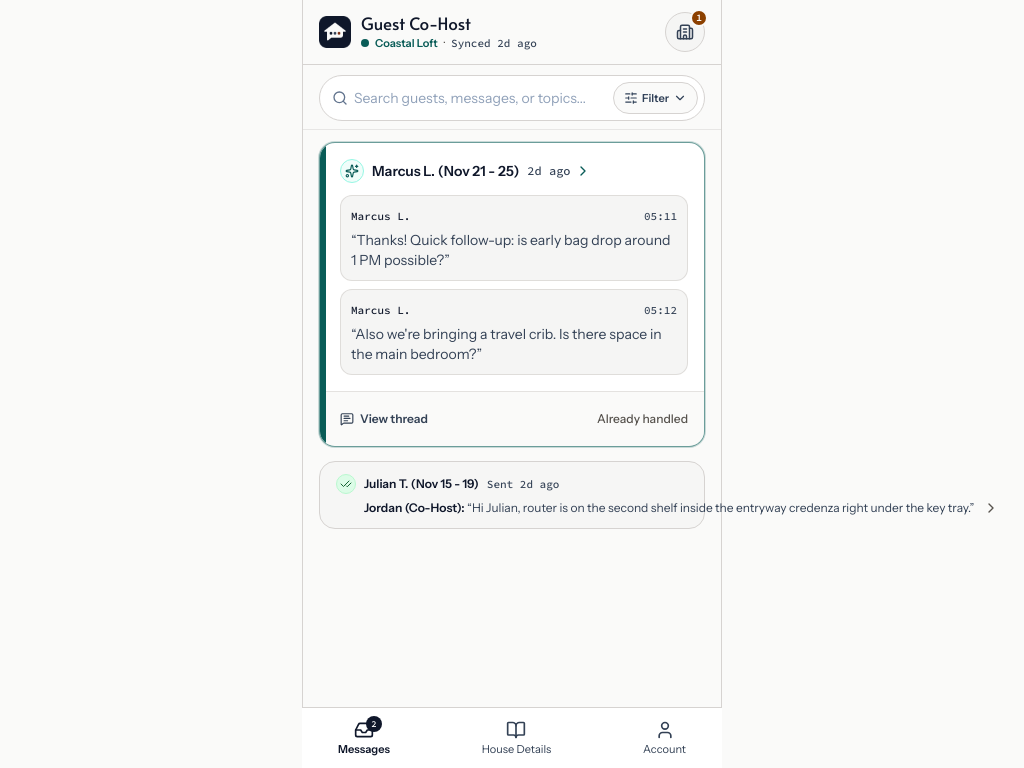
Test case: Stage 2: Core Messaging Journey (Messages, Agent Dialogue, Guest Thread) › deletes a thread permanently from Full Guest Thread via confirmation sheet and updates unread counts
Note: Open Julian T. handled thread directly
Click the text "Julian T. (Nov 15 - 19)": {"x": 421, "y": 484} x1=364 y1=476 x2=479 y2=492
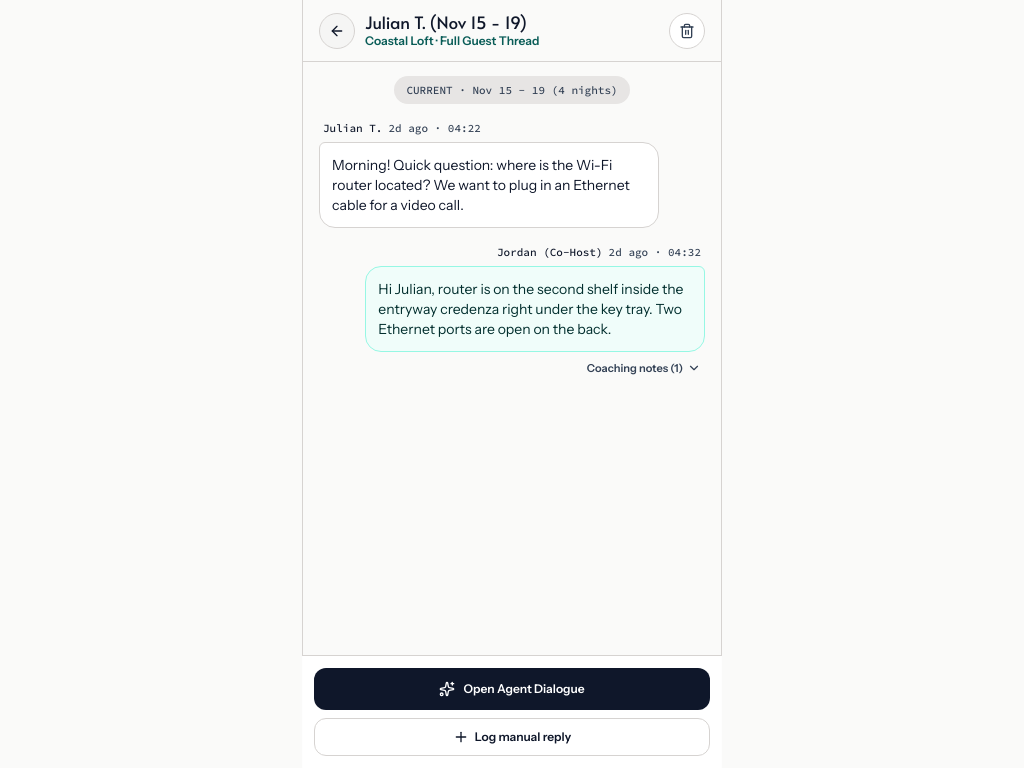
Click the button named "Delete thread": {"x": 687, "y": 31} x1=669 y1=13 x2=705 y2=49
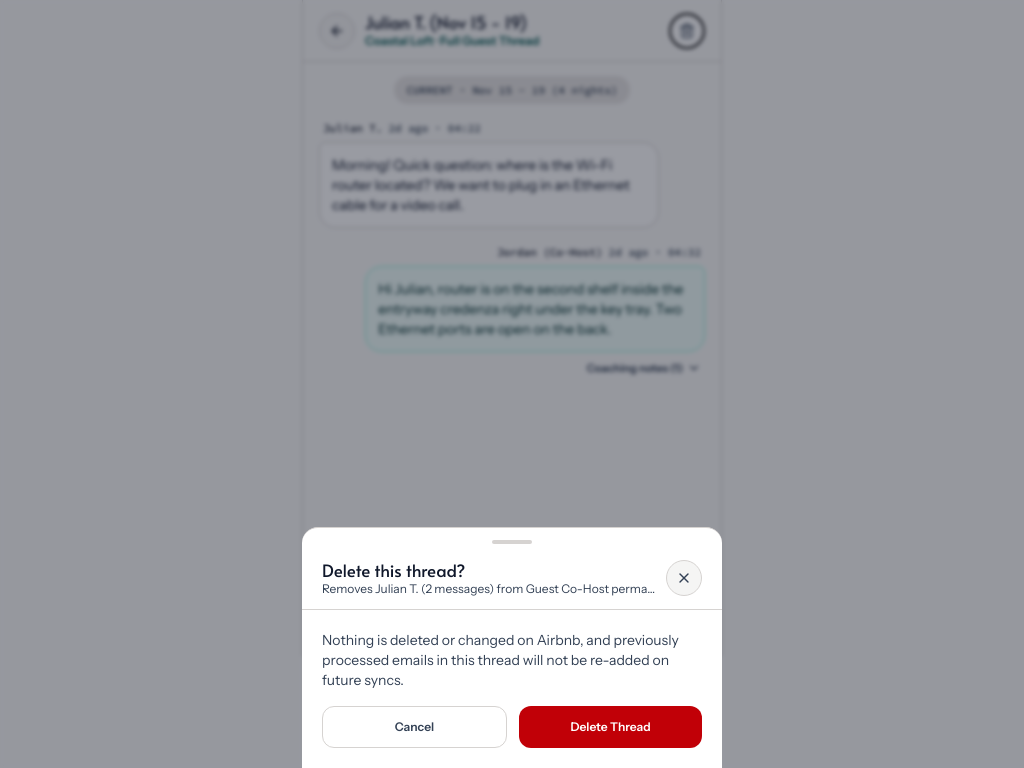
Click the button "Delete Thread": {"x": 610, "y": 727} x1=519 y1=706 x2=702 y2=748
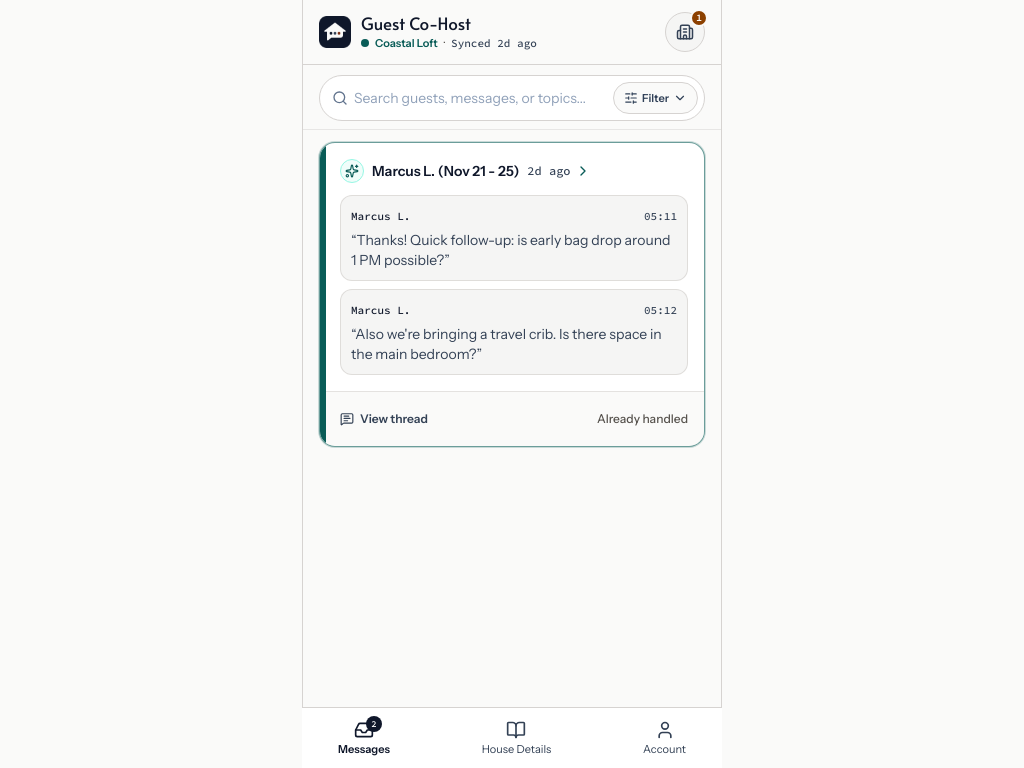
Now the heading "Julian T. (Nov 15 - 19)" is gone
